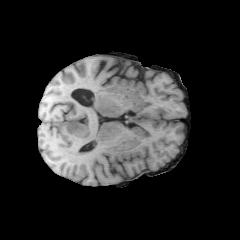glioma: (66, 123, 93, 156)
